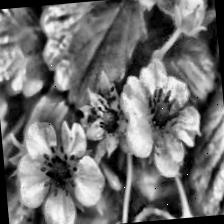Blossom Blight: (36, 143, 84, 204), (143, 86, 184, 140), (90, 95, 127, 137)
